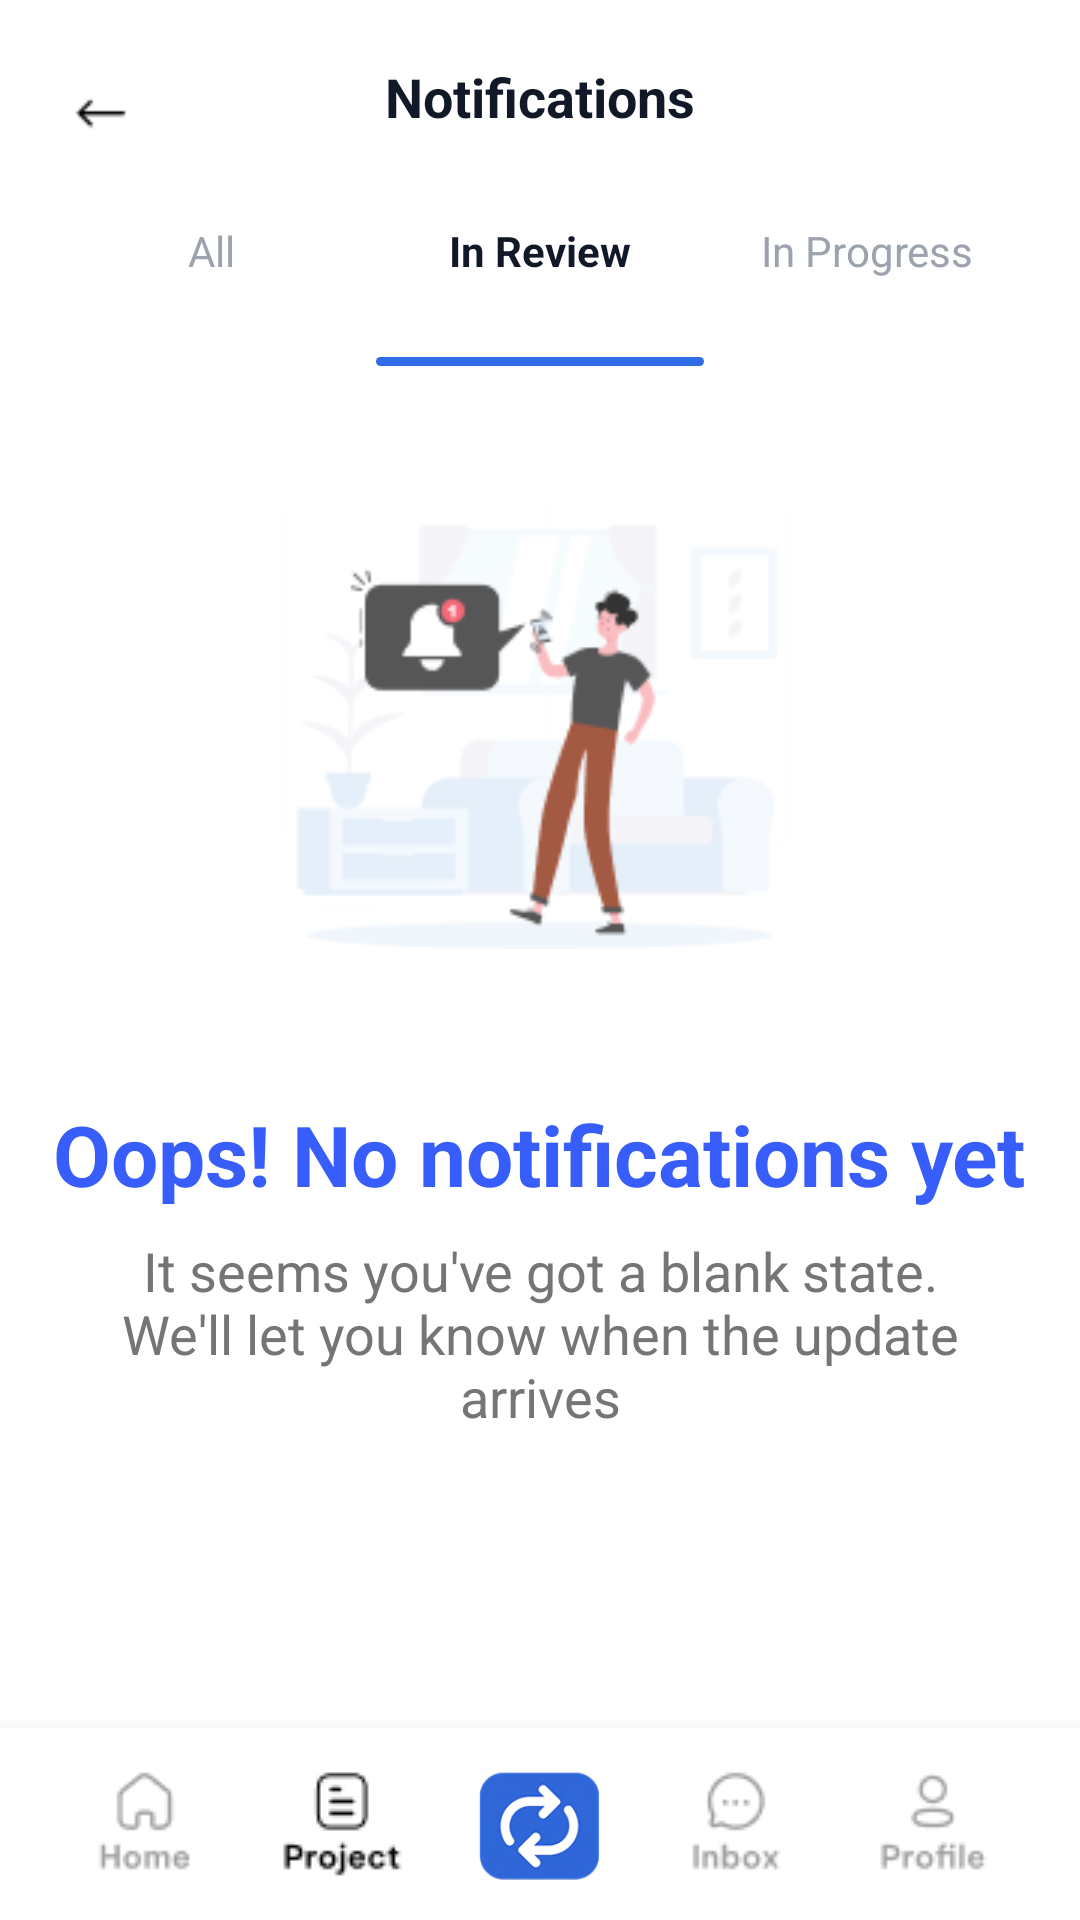

Where to tap for icons on this 1080x1920 app screen, as point (x, y):
back arrow: point (101, 113)
